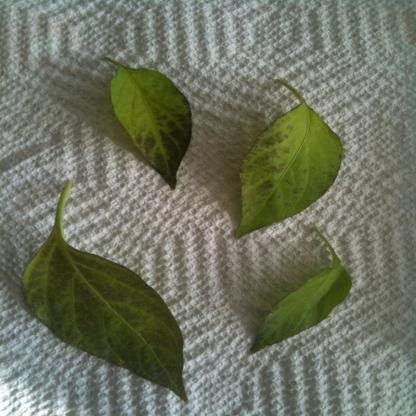Bell_pepper leaf spot: (21, 231, 197, 402), (237, 94, 344, 236), (104, 67, 197, 190), (254, 264, 356, 358)
